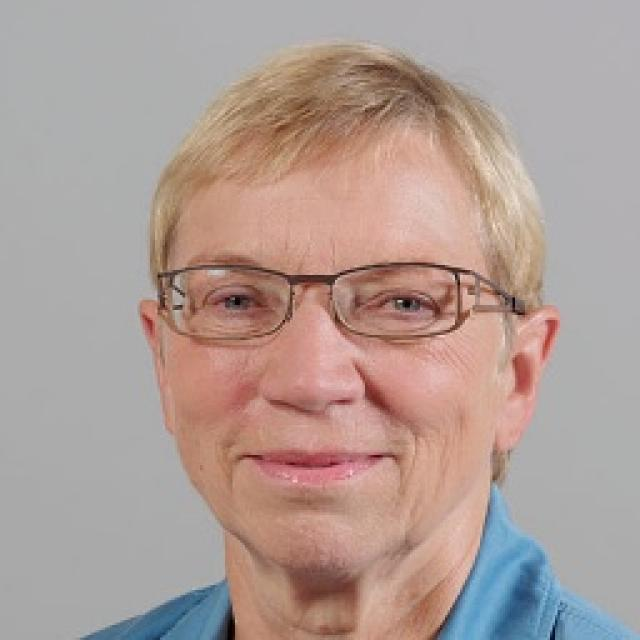glasses: (151, 254, 541, 352)
